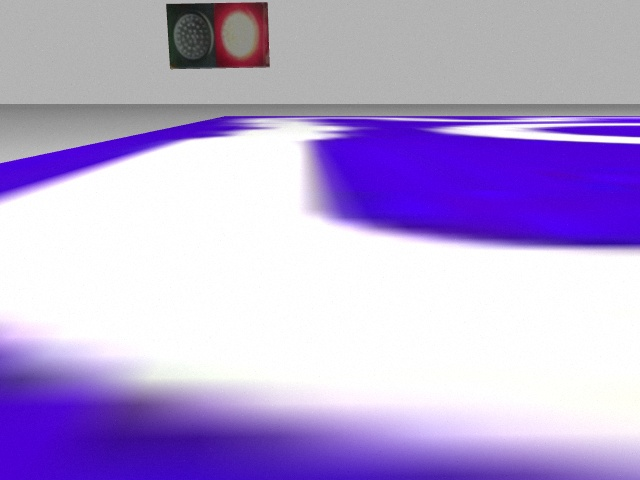red: (215, 3, 268, 67)
